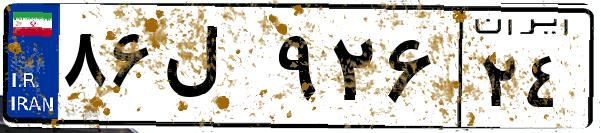2: (330, 28, 385, 110), (475, 38, 525, 113)
4: (525, 38, 570, 115)
6: (385, 28, 445, 110), (110, 28, 158, 98)
8: (57, 26, 110, 100)
9: (270, 28, 330, 110)
ل: (158, 20, 270, 120)
